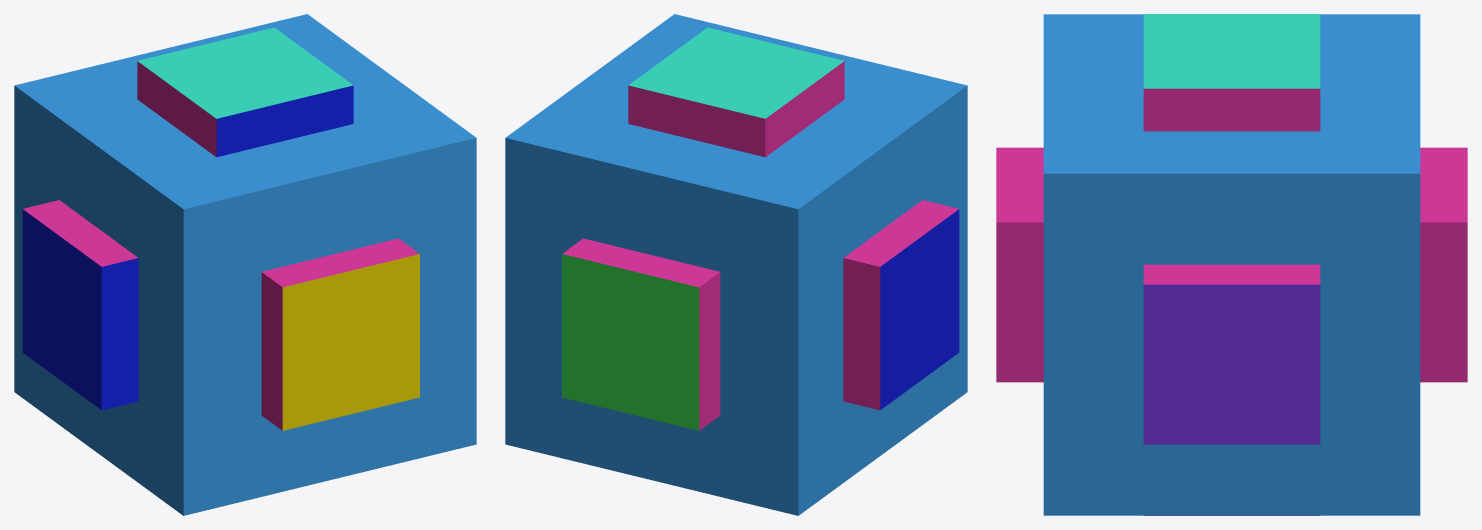
Rendered from cube-bmc-test3.glb.
3 views of the same model, side by side, from view 1: azimuth 30°, elevation 25°; view 2: azimuth 150°, elevation 25°; view 3: azimuth 270°, elevation 25° (orthographic). The views are drawn at different scales.
Parts seen in each view (by area): view 1: Cube, Cube.001, Cube.002, Cube.003; view 2: Cube, Cube.001, Cube.002, Cube.003; view 3: Cube, Cube.002, Cube.001, Cube.003.
Boxes of the visible parts, box(x1,y1,x2,y2) form: Cube: box(14, 14, 476, 515); Cube.001: box(261, 238, 419, 430); Cube.002: box(22, 200, 138, 410); Cube.003: box(137, 27, 353, 157); Cube: box(505, 14, 967, 515); Cube.001: box(562, 238, 720, 430); Cube.002: box(843, 200, 959, 410); Cube.003: box(628, 27, 844, 157); Cube: box(1043, 14, 1420, 515); Cube.002: box(1143, 264, 1320, 444); Cube.001: box(996, 147, 1467, 382); Cube.003: box(1143, 14, 1320, 515).
Bounding box in the file's own units: 2.5 × 2.5 × 2.5.
